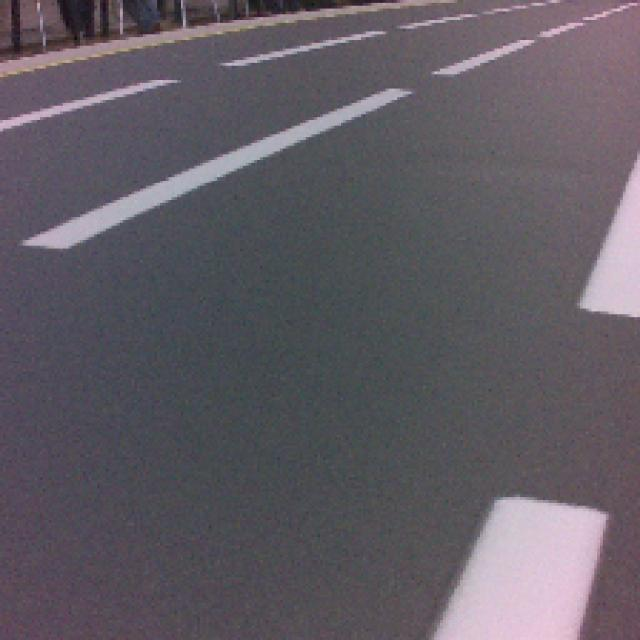Road: (0, 204, 575, 640)
